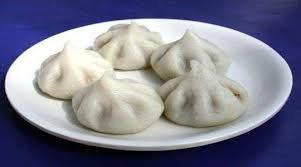modak: (66, 63, 176, 135), (162, 55, 255, 122), (156, 23, 238, 80), (34, 37, 112, 94), (97, 18, 167, 71)
